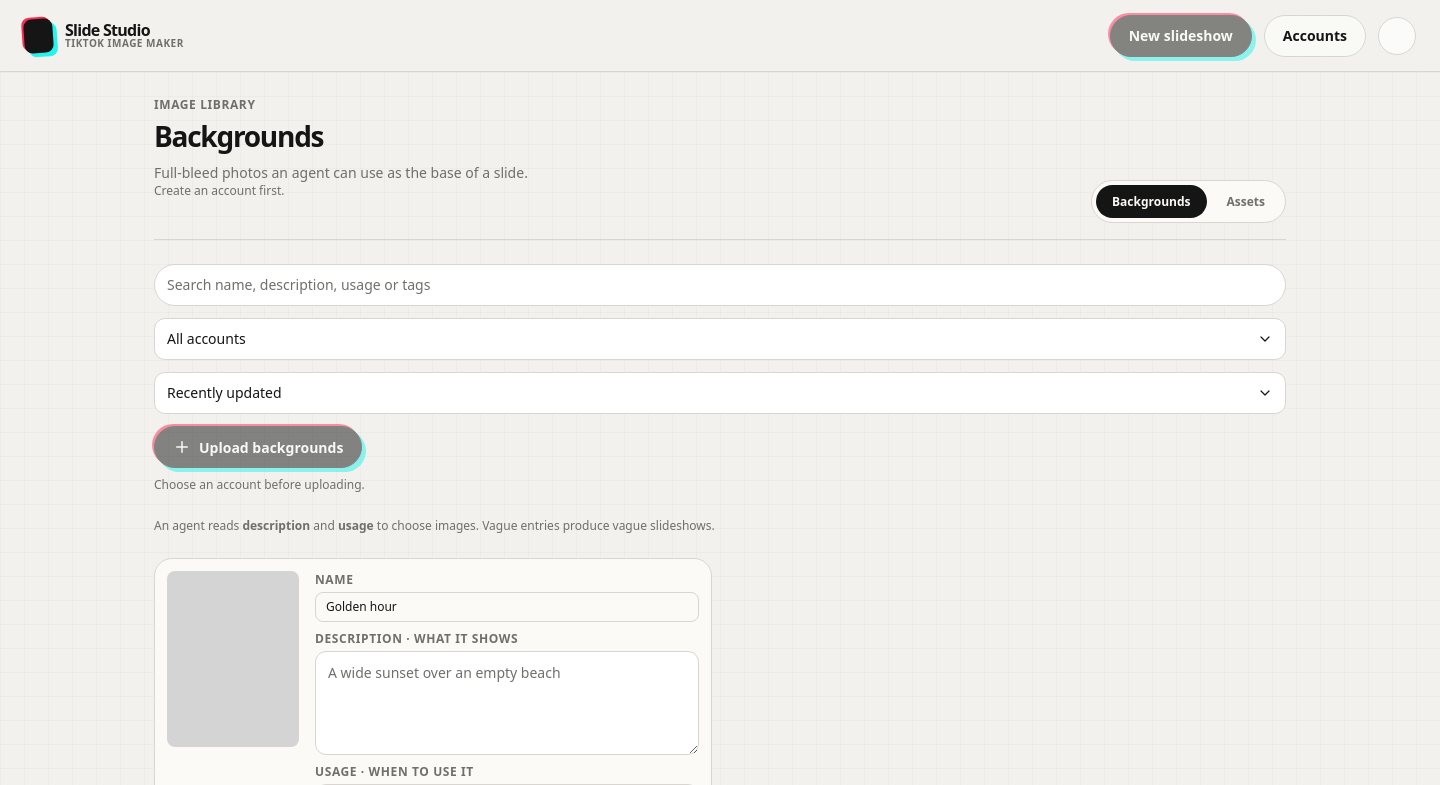
Test: gives each tab a fresh page rather than the last one's search
This screenshot has width=1440, height=785.
Type "golden" into the search field named "Search the library". click: (720, 285)
box: top-left (154, 264), bottom-right (1286, 306)
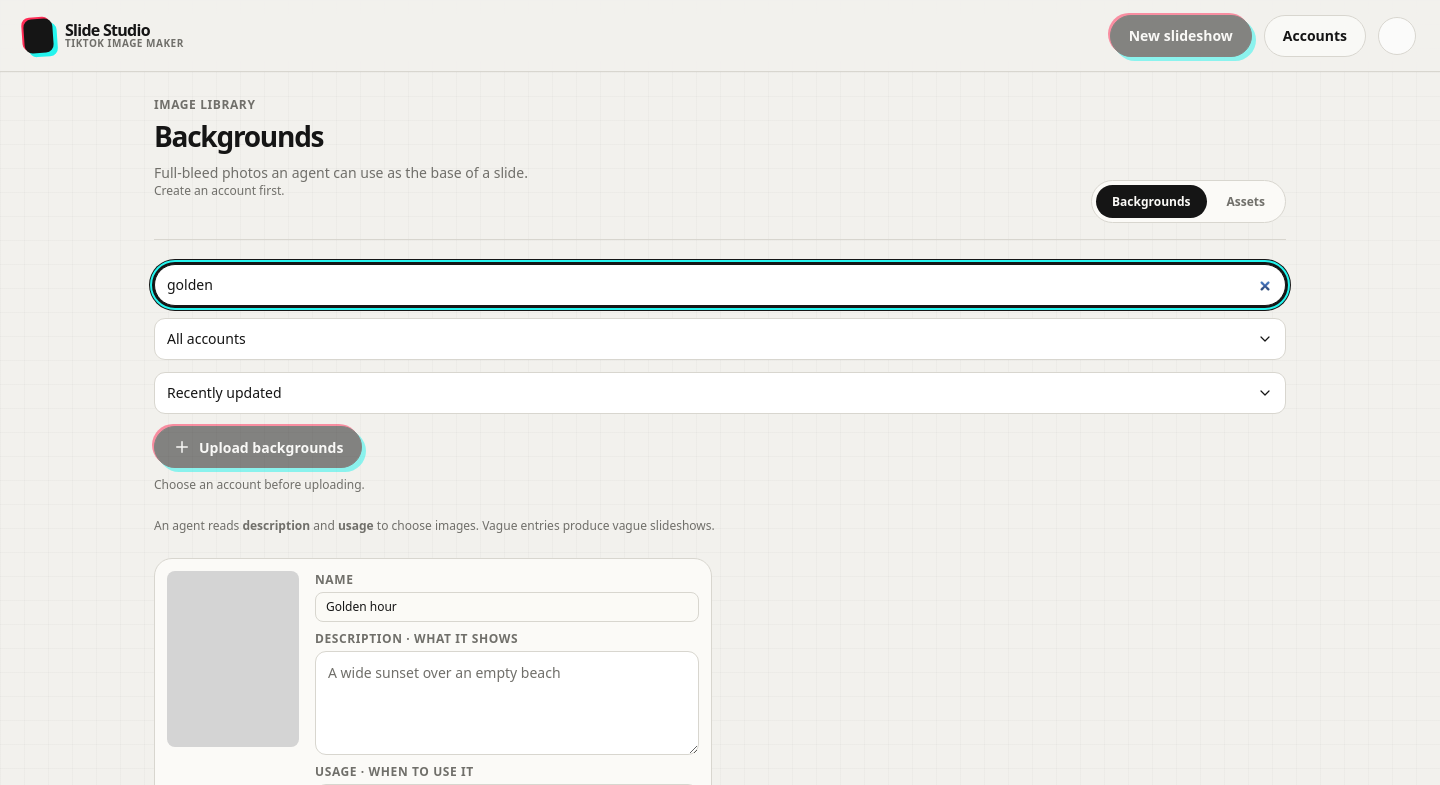
Click the link "Assets". click: click(1246, 202)
box: top-left (1226, 193), bottom-right (1265, 210)
(page scrolled)
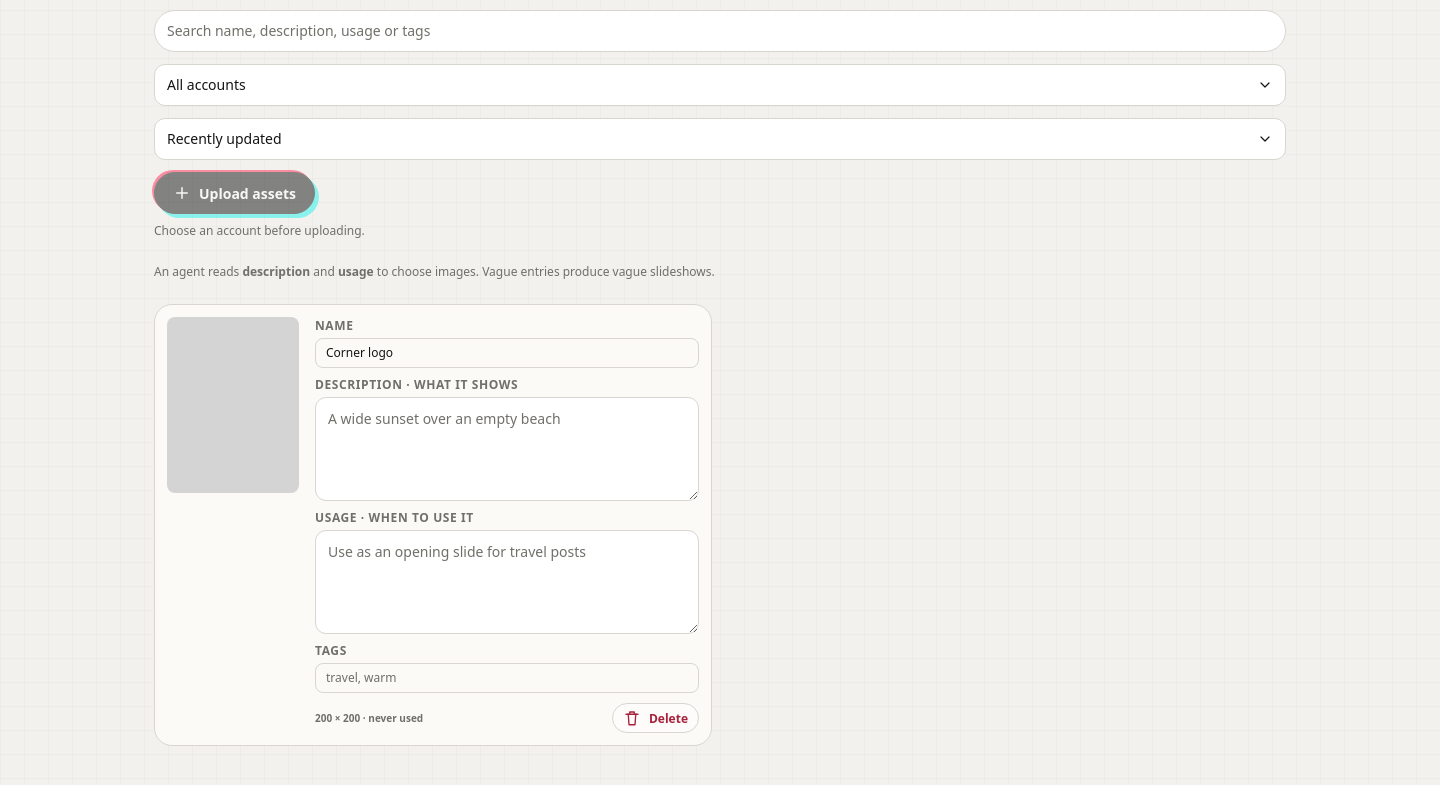
Result: the search field named "Search the library" is empty at top-left (154, 10), bottom-right (1286, 52)
Result: the button with aria-label "Delete Corner logo" is shown at top-left (612, 703), bottom-right (699, 733)
